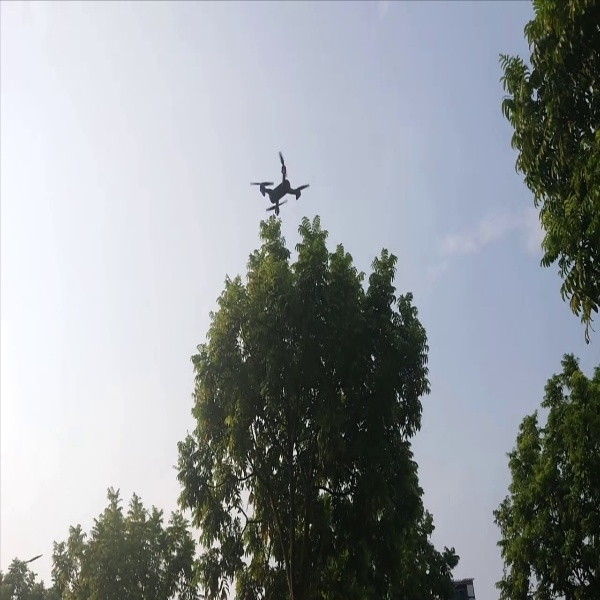drone: (245, 146, 309, 213)
